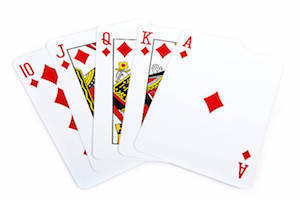AceOfDiamonds: (172, 30, 293, 190)
JackOfDiamonds: (53, 30, 99, 141)
KingOfDiamonds: (127, 24, 175, 130)
QueenOfDiamonds: (91, 28, 136, 161)
TenOfDiamonds: (9, 52, 77, 163)
